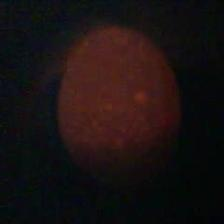fertile: (56, 23, 185, 189)
